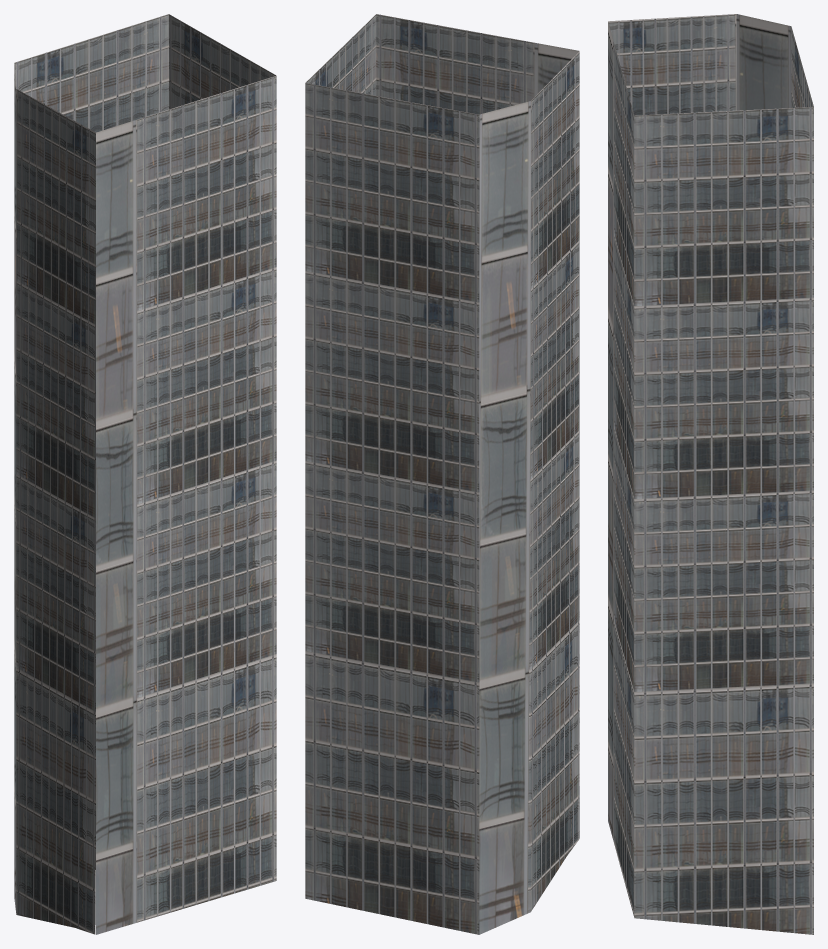
The model's file is building_018.fbx.
The picture shows the model from 3 angles, left to right: view 1: azimuth 30°, elevation 25°; view 2: azimuth 150°, elevation 25°; view 3: azimuth 270°, elevation 25°; orthographic projection.
Visible parts, largest first — view 1: Areas:building.018; view 2: Areas:building.018; view 3: Areas:building.018.
Boxes of the visible parts, x1,y1,x2,y2 form: Areas:building.018: (14, 14, 276, 934); Areas:building.018: (305, 14, 579, 934); Areas:building.018: (608, 14, 813, 934).
Bounding box in the file's own units: 1493 × 5711 × 1280.
